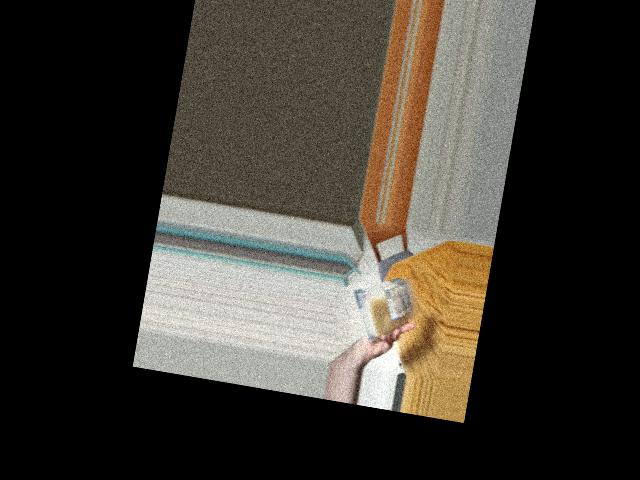cheese: (358, 274, 417, 342)
